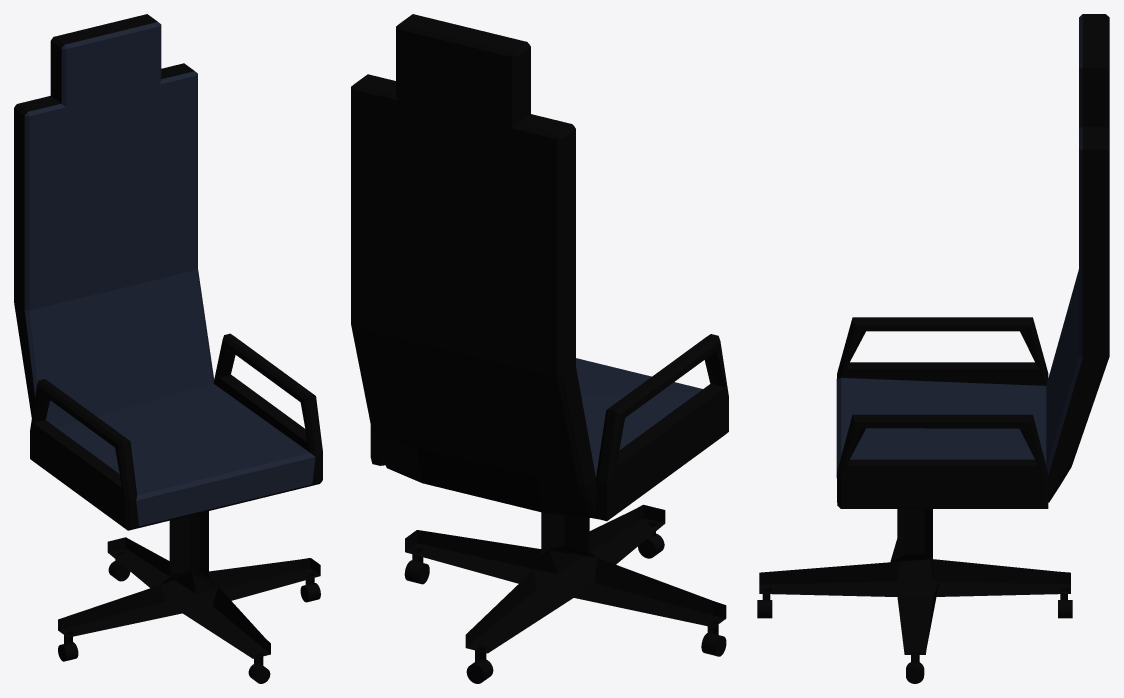
File: officeChair.glb
The picture shows the model from 3 angles, left to right: view 1: azimuth 30°, elevation 25°; view 2: azimuth 150°, elevation 25°; view 3: azimuth 270°, elevation 25°; orthographic projection. The views are drawn at different scales.
Parts seen in each view (by area): view 1: Cube; view 2: Cube; view 3: Cube.
Boxes of the visible parts, left/top/right/bottom form: Cube: left=14, top=14, right=322, bottom=683; Cube: left=351, top=14, right=728, bottom=683; Cube: left=757, top=14, right=1109, bottom=683.
Bounding box in the file's own units: 2.06 × 4.17 × 2.3.
